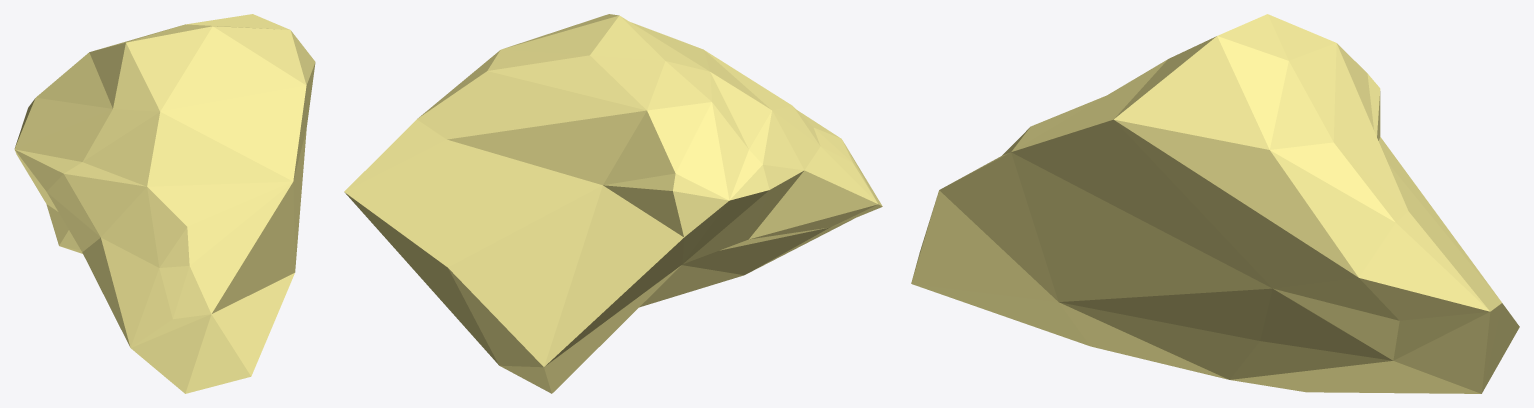
File: Hill_008.glb
3 renders of one model, left to right at view 1: azimuth 30°, elevation 25°; view 2: azimuth 150°, elevation 25°; view 3: azimuth 270°, elevation 25°, orthographic. The views are drawn at different scales.
Parts seen in each view (by area): view 1: Hill_008; view 2: Hill_008; view 3: Hill_008.
Part boxes in pixels (bbox=[...]): Hill_008: bbox=[14, 14, 315, 393]; Hill_008: bbox=[344, 14, 882, 393]; Hill_008: bbox=[911, 14, 1519, 393].
Bounding box in the file's own units: 0.5927 × 0.4834 × 0.7364.
Materials: 1 (1 with a texture image).
